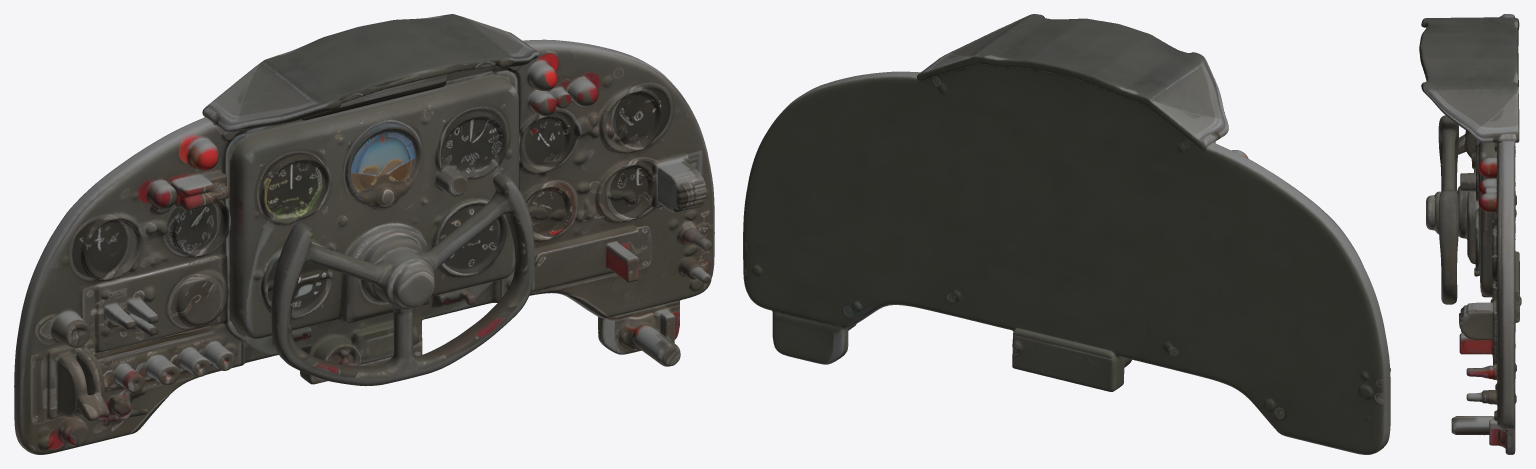
The model's file is tripo_convert_1d59a448-82fb-4fbb-9ecf-682c026886fa.fbx.
The picture shows the model from 3 angles, left to right: view 1: azimuth 30°, elevation 25°; view 2: azimuth 150°, elevation 25°; view 3: azimuth 270°, elevation 25°; orthographic projection. The views are drawn at different scales.
Parts seen in each view (by area): view 1: tripo_node_1d59a448; view 2: tripo_node_1d59a448; view 3: tripo_node_1d59a448.
Boxes of the visible parts, box(x1,y1,x2,y2) form: tripo_node_1d59a448: box(14, 14, 714, 454); tripo_node_1d59a448: box(743, 14, 1390, 454); tripo_node_1d59a448: box(1419, 14, 1521, 454).
Bounding box in the file's own units: 1 × 0.5342 × 0.1671.
1 material, 1 textured.
